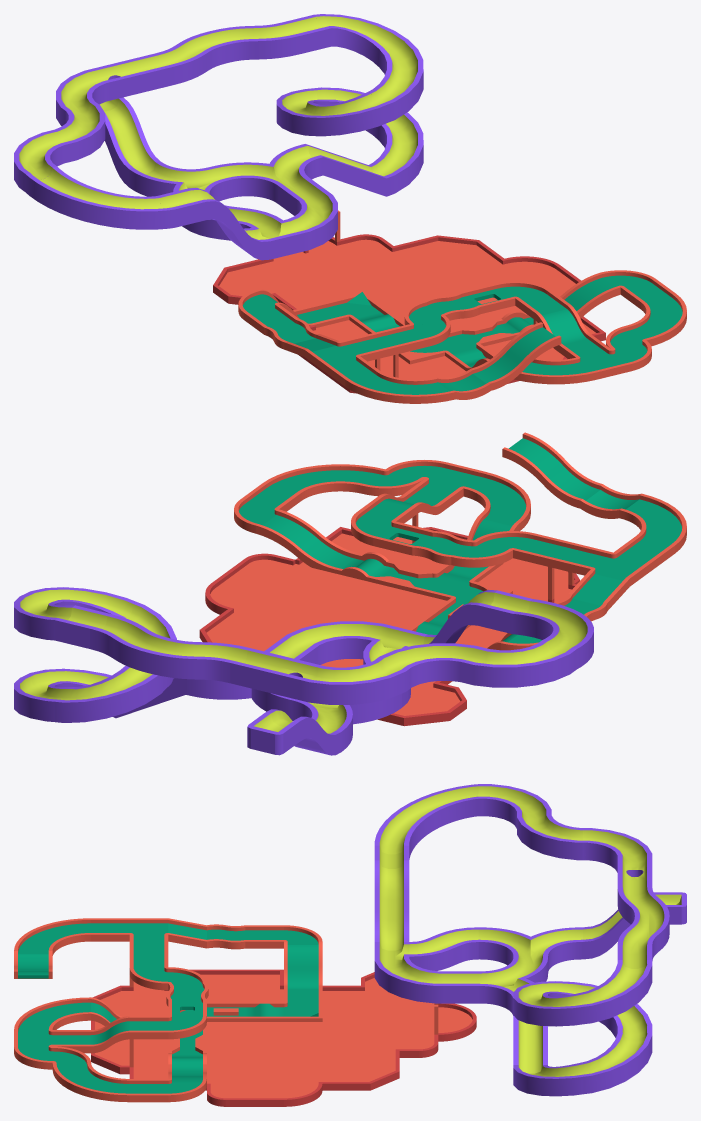
File: Arena1.fbx
3 views of the same model, one above another, from view 1: azimuth 30°, elevation 25°; view 2: azimuth 150°, elevation 25°; view 3: azimuth 270°, elevation 25° (orthographic). The views are drawn at different scales.
Parts seen in each view (by area): view 1: straight (×12), roof_flatCenter (×16), helix_left, split_double_sides (×2), bend_large (×3), helix_half_left, helix_large_quarter_right, wave_B, bend (×7), curve (×2), s-curve_right, roof_flatEdge (×5) (+20 smaller); view 2: straight (×10), roof_flatCenter (×14), helix_left, bend_large (×3), s-curve_right, curve (×2), wave_B, bend (×6), split_double_sides (×2), split (×4), helix_half_left, helix_large_quarter_right (+20 smaller); view 3: roof_flatCenter (×27), straight (×12), helix_left, bend_large (×3), split_double_sides (×2), bend (×7), helix_half_left, curve (×2), s-curve_right, roof_flatEdge (×5), helix_large_quarter_right, ramp_long_D (+23 smaller).
Part boxes in pixels (x1,y1,x2,y2): straight (×12): [124, 15, 675, 386]; roof_flatCenter (×16): [253, 244, 524, 378]; helix_left: [276, 87, 423, 196]; split_double_sides (×2): [129, 144, 323, 226]; bend_large (×3): [345, 294, 686, 403]; helix_half_left: [314, 14, 423, 122]; helix_large_quarter_right: [25, 166, 174, 229]; wave_B: [156, 22, 300, 84]; bend (×7): [238, 270, 655, 370]; curve (×2): [56, 69, 337, 251]; s-curve_right: [14, 103, 105, 190]; roof_flatEdge (×5): [233, 237, 579, 290]; straight (×10): [55, 479, 674, 691]; roof_flatCenter (×14): [232, 564, 571, 648]; helix_left: [14, 601, 176, 722]; bend_large (×3): [263, 464, 686, 553]; s-curve_right: [375, 641, 575, 687]; curve (×2): [282, 621, 411, 704]; wave_B: [90, 614, 250, 683]; bend (×6): [234, 460, 534, 567]; split_double_sides (×2): [186, 679, 401, 752]; split (×4): [372, 462, 652, 653]; helix_half_left: [14, 587, 135, 640]; helix_large_quarter_right: [512, 599, 593, 668]; roof_flatCenter (×27): [129, 989, 434, 1086]; straight (×12): [52, 845, 652, 1102]; helix_left: [513, 981, 652, 1096]; bend_large (×3): [14, 918, 129, 1102]; split_double_sides (×2): [478, 927, 582, 1015]; bend (×7): [14, 925, 322, 1102]; helix_half_left: [513, 960, 652, 1026]; curve (×2): [374, 828, 652, 1003]; s-curve_right: [482, 784, 586, 860]; roof_flatEdge (×5): [207, 969, 399, 1106]; helix_large_quarter_right: [374, 784, 478, 859]; ramp_long_D: [374, 860, 409, 950].
Size of the model in its own units: 133 by 35 by 175.
